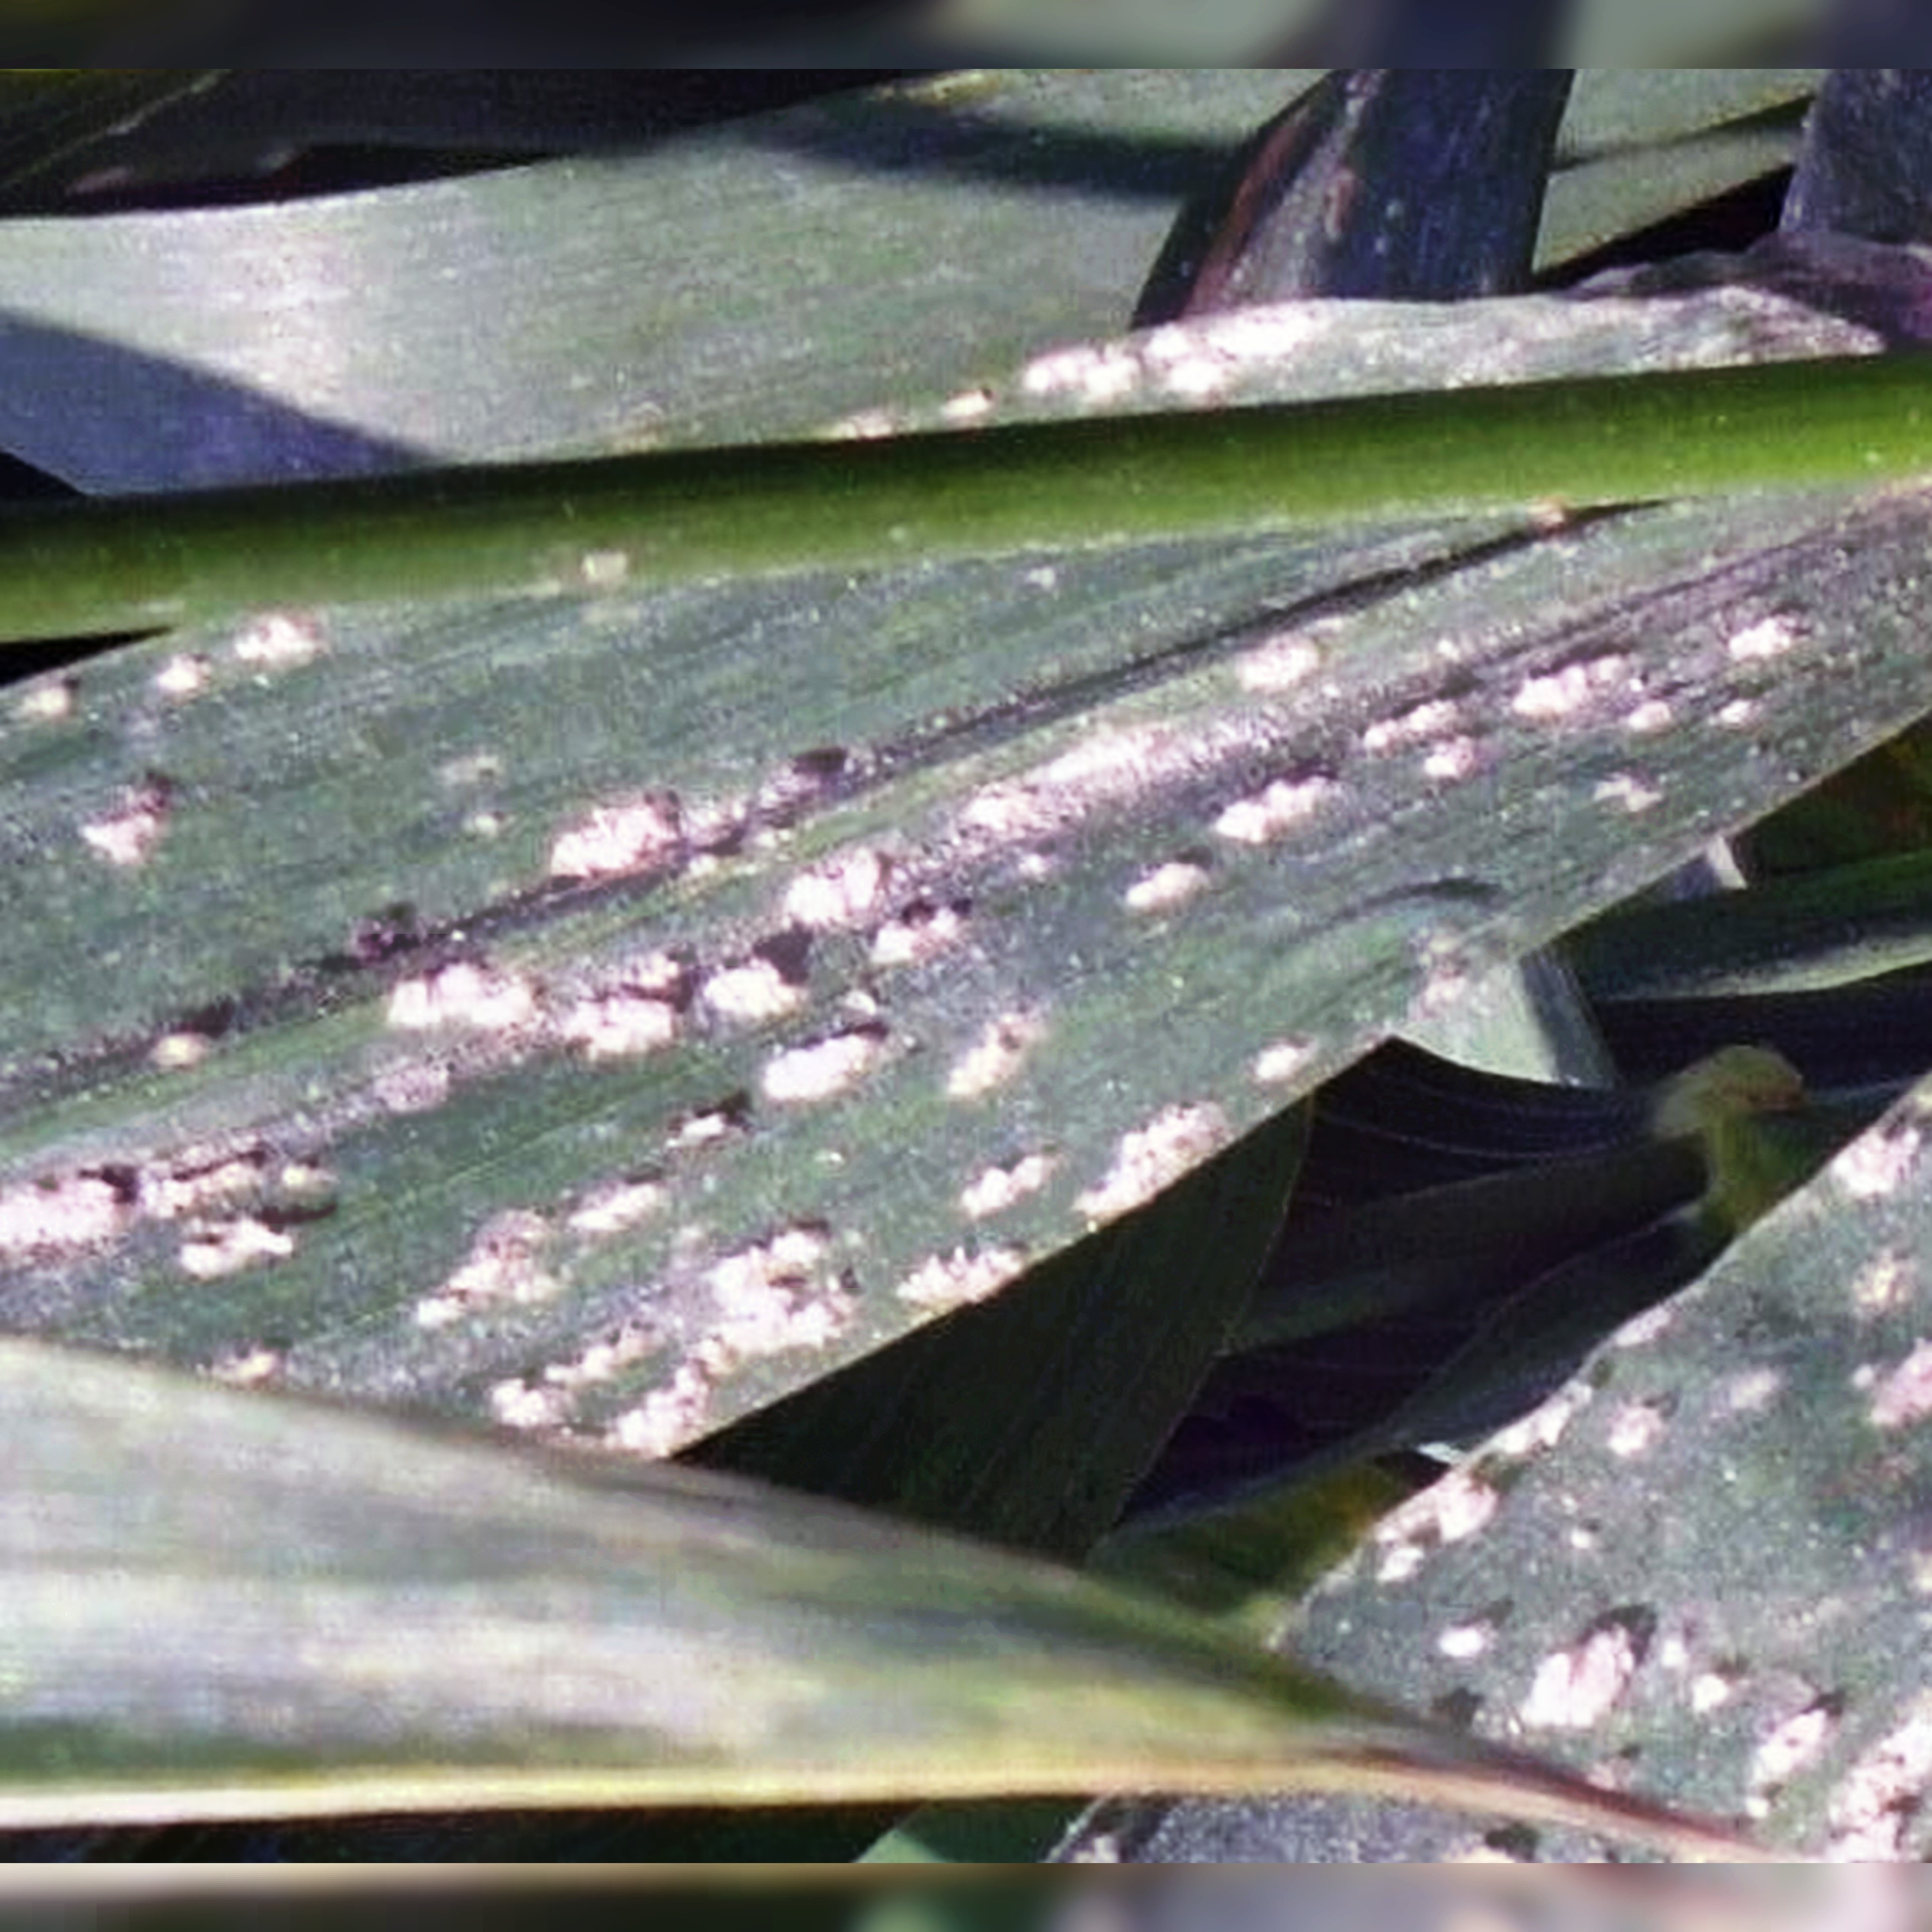Powdery Mildew: (119, 547, 1605, 1431)
